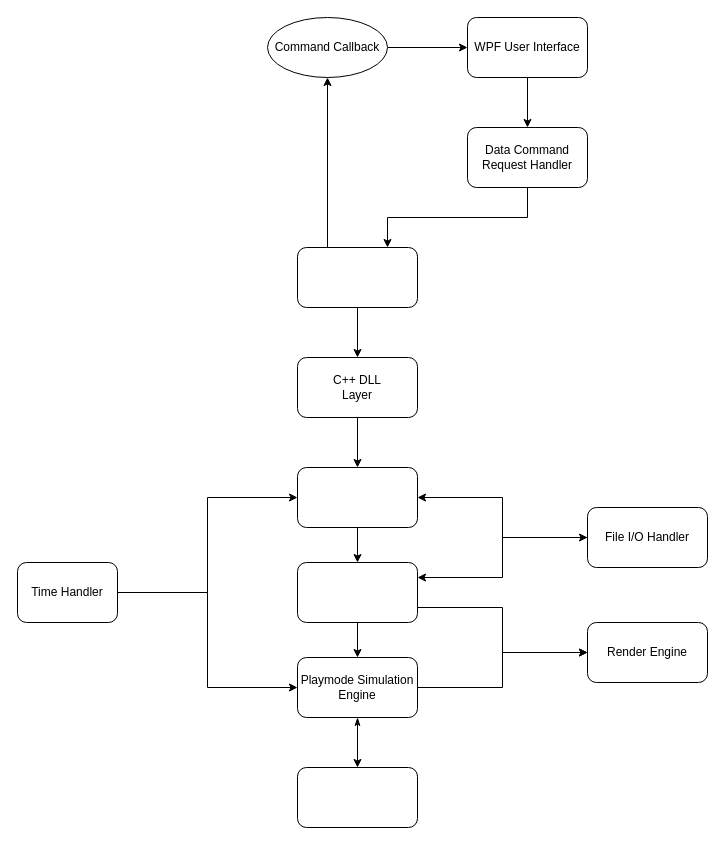
Image size: 725x845. Some labels were removed from this diagram. The shapes that lost their labels are listed below. From the top down, each one's centre as x and y in pixels, then its label:
At point (357, 277): "Async Data Command".
At point (357, 497): "Core Editor Engine".
At point (357, 592): "Level Handler".
At point (357, 797): "Physics/Collision Engine".
